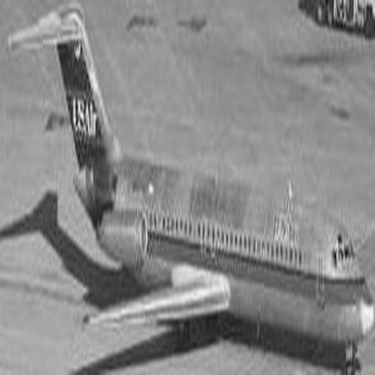airplane: (4, 6, 369, 372)
